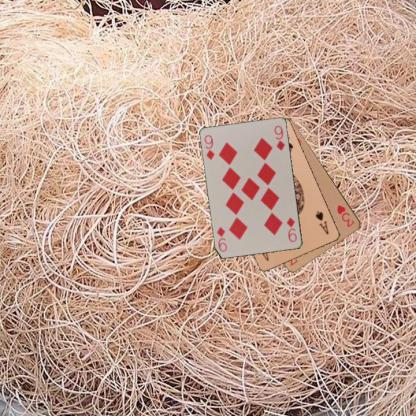3h: (334, 202, 356, 229)
9d: (202, 132, 216, 162), (284, 215, 298, 243)
As: (313, 208, 330, 236)
